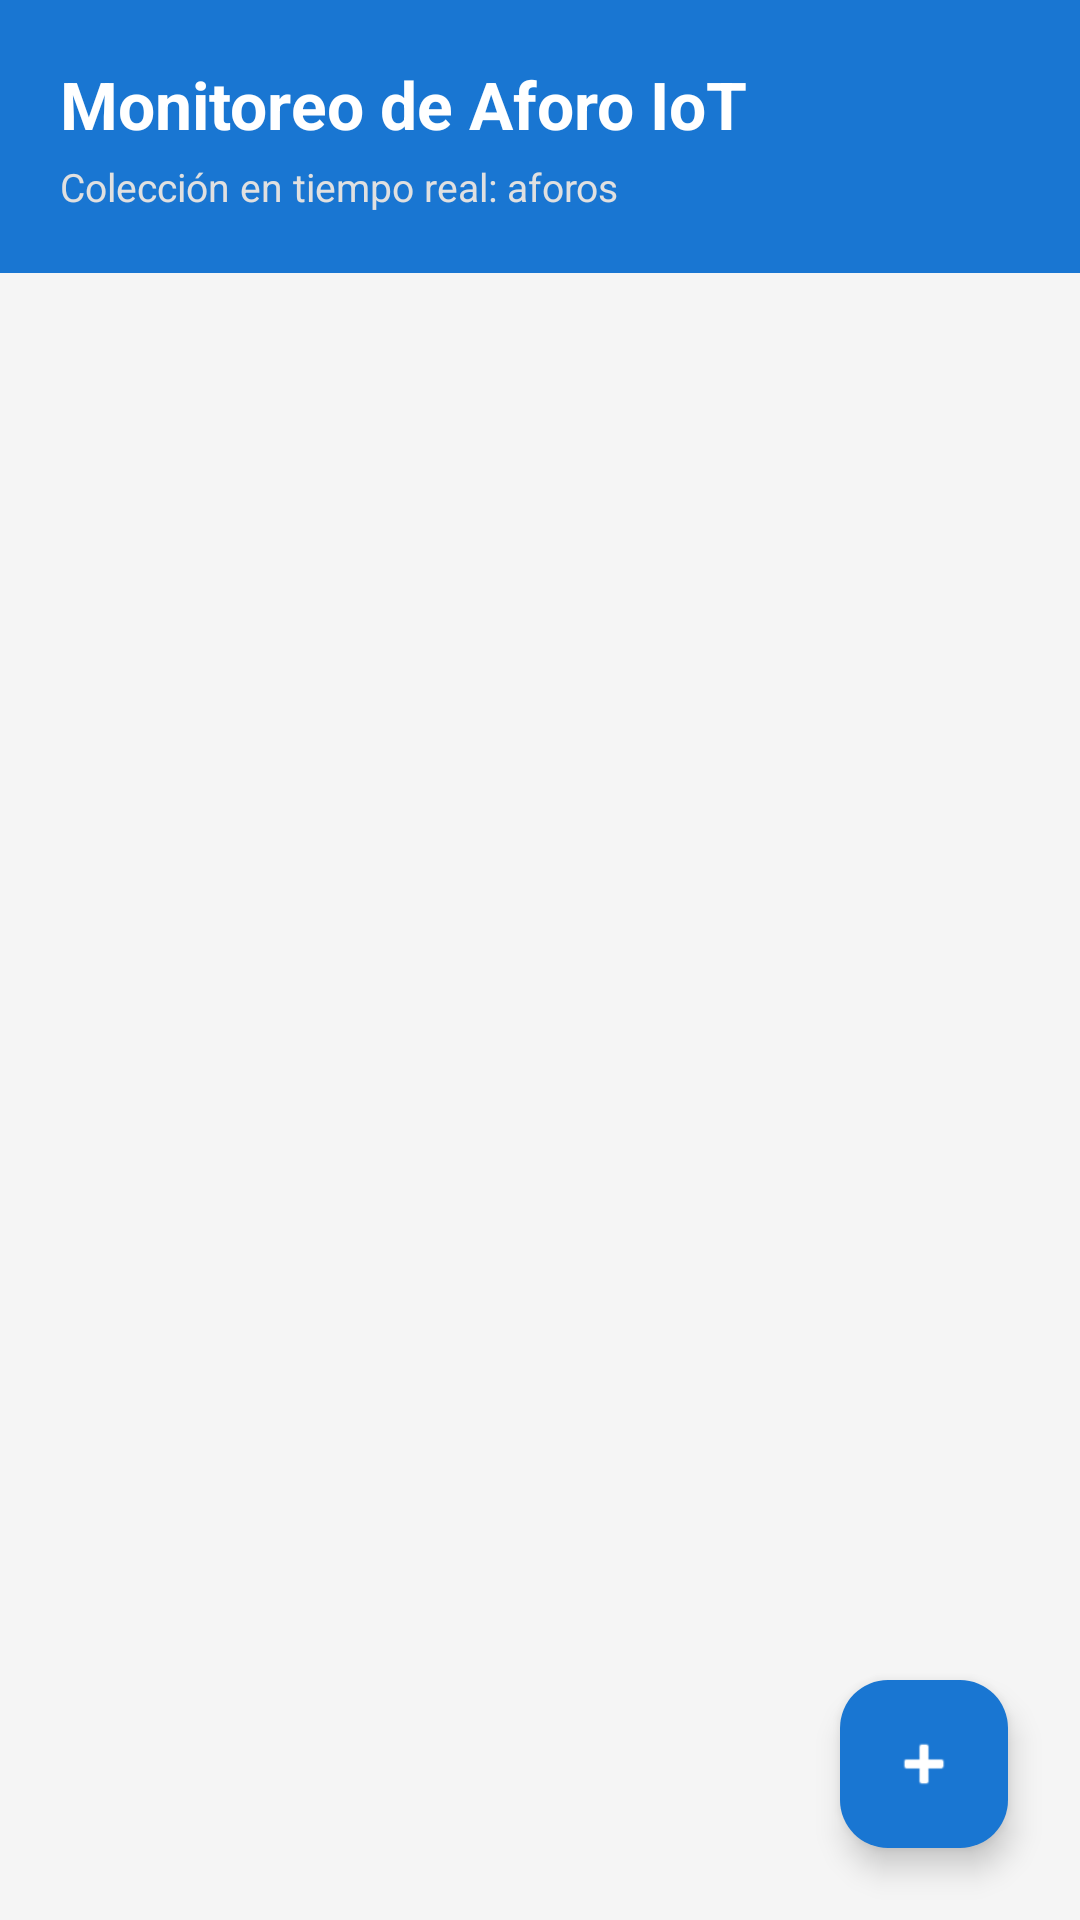

Named icons in this screenshot (1080*1920) and their bounding boxes, (x1, y1, x2, y2):
Agregar registro de aforo: (840, 1680, 1008, 1848)
